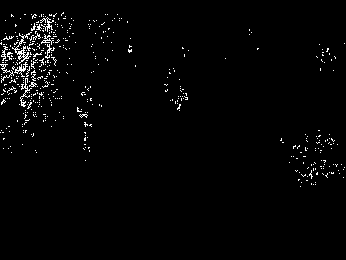person: (75, 84, 105, 155), (162, 63, 194, 112)
